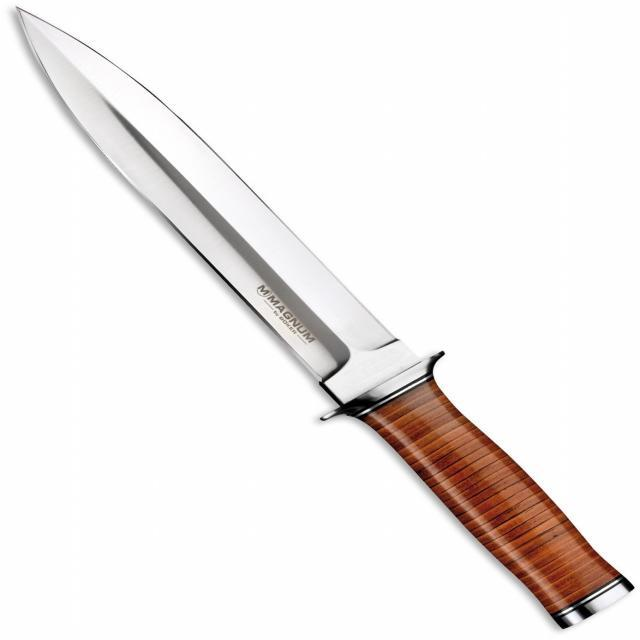short sword: (8, 5, 640, 635)
